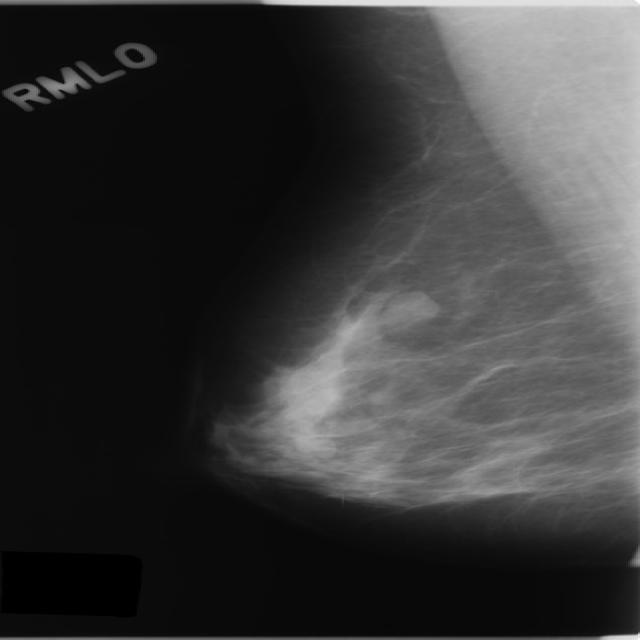tumour: (384, 288, 437, 322)
